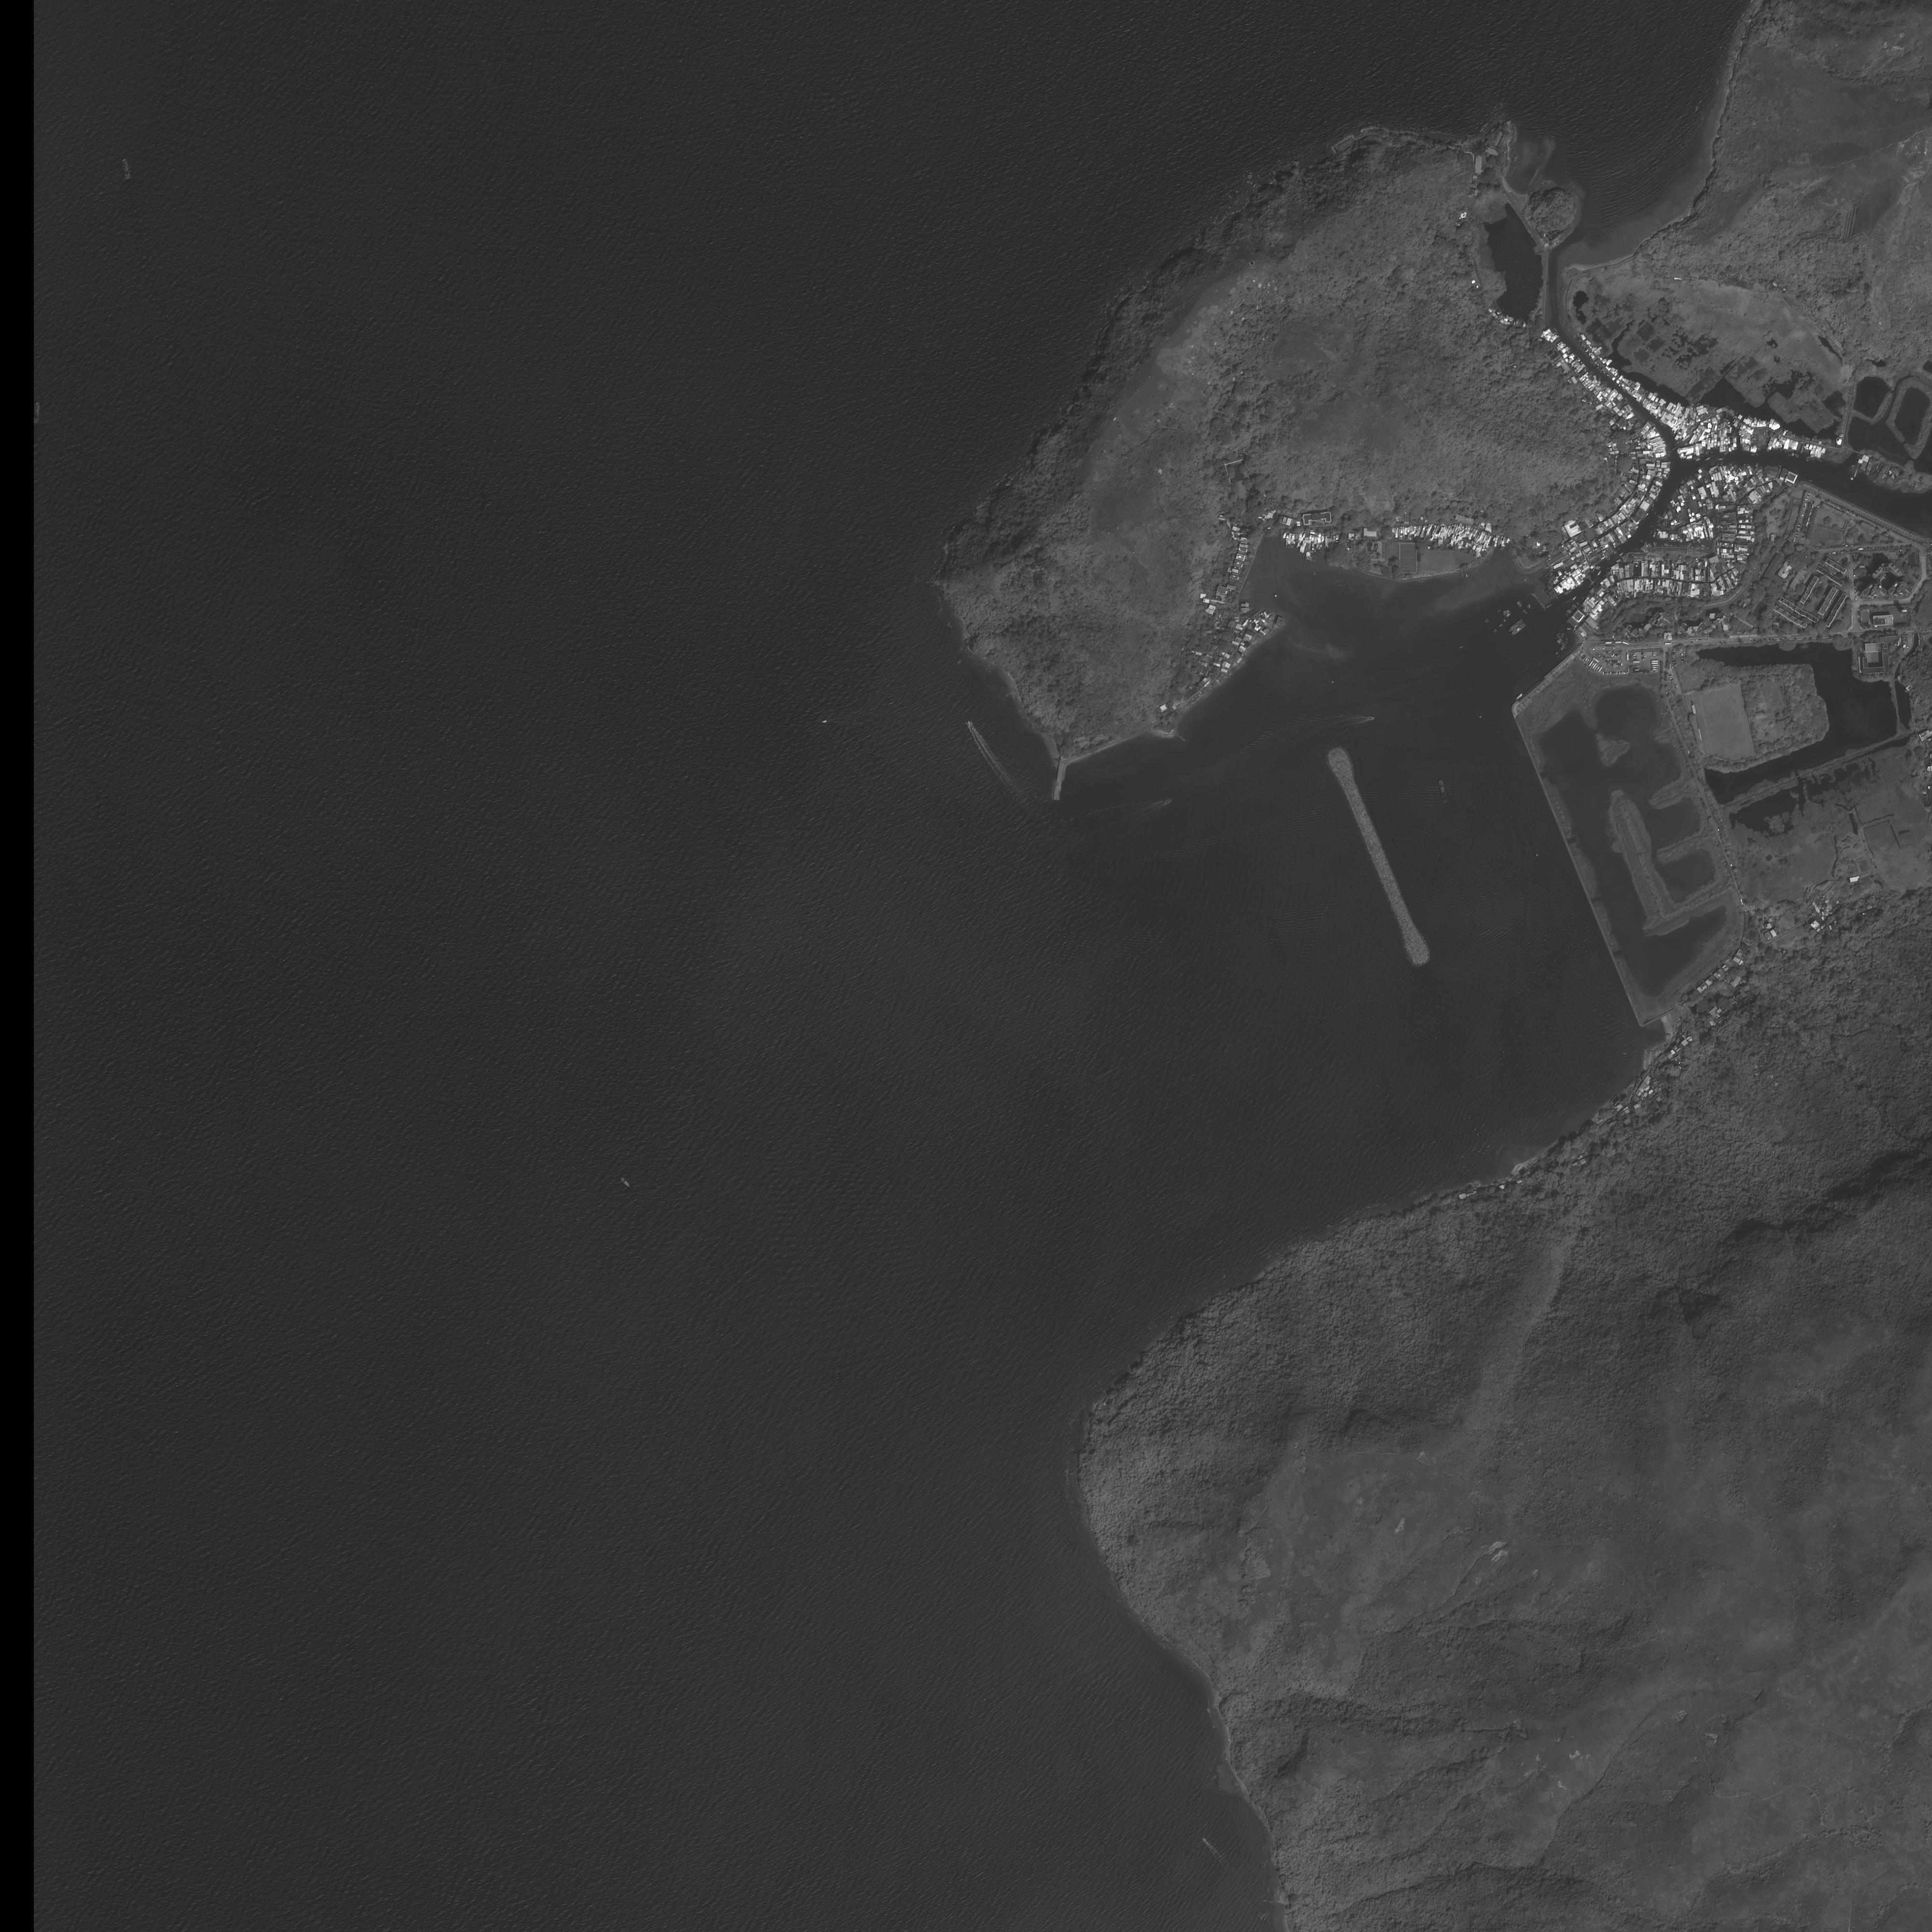harbor: (1052, 764, 1067, 801)
ship: (1438, 779, 1448, 802), (1510, 623, 1527, 637), (1157, 796, 1173, 809), (1507, 619, 1522, 633), (122, 159, 130, 180), (1199, 1833, 1212, 1847), (1363, 714, 1377, 724), (620, 1177, 631, 1189), (34, 402, 40, 424), (1515, 694, 1523, 700), (967, 720, 972, 727)
